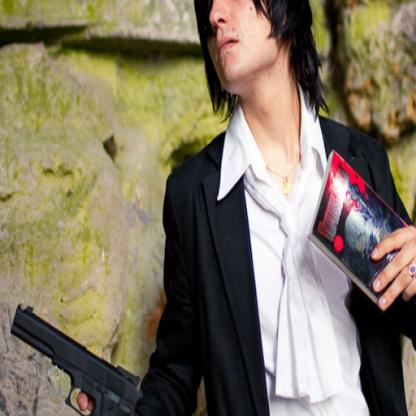gun: (11, 307, 146, 415)
